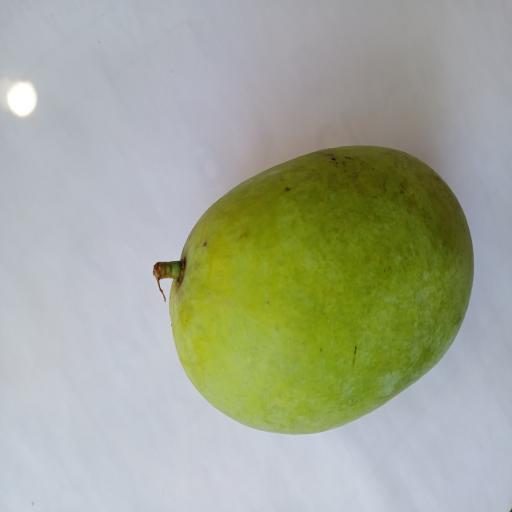mango-unripe: (132, 139, 479, 446)
